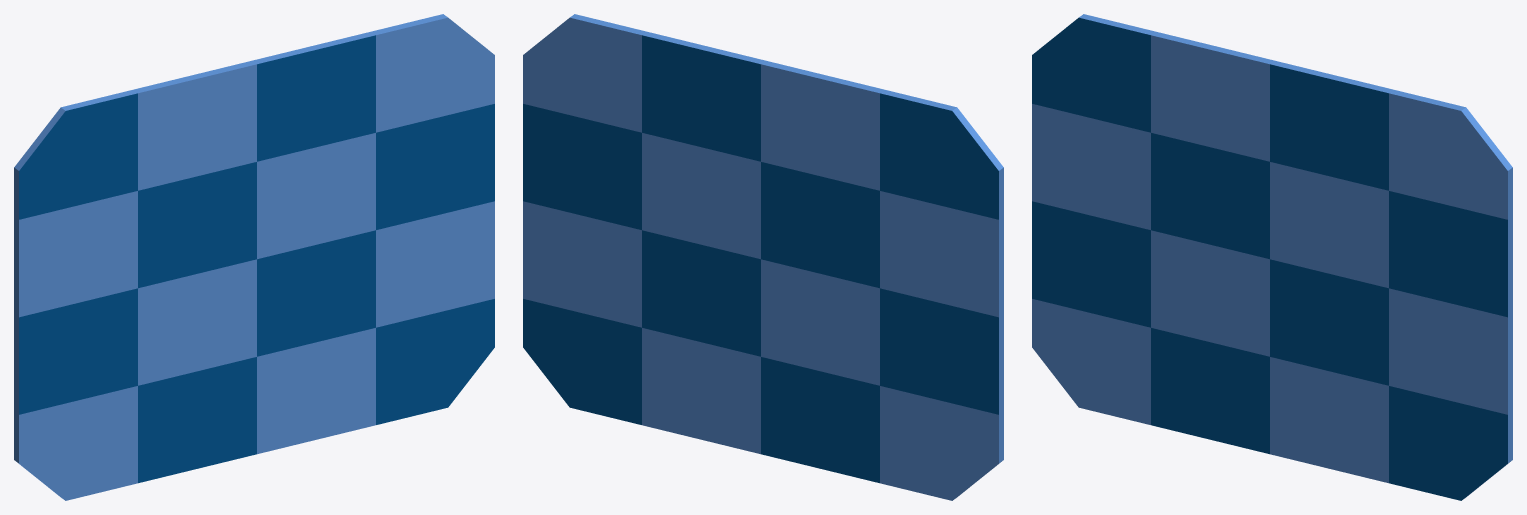
File: TowerSolarPanel.fbx
The picture shows the model from 3 angles, left to right: view 1: azimuth 30°, elevation 25°; view 2: azimuth 150°, elevation 25°; view 3: azimuth 330°, elevation 25°; orthographic projection.
Parts seen in each view (by area): view 1: polySurface6; view 2: polySurface6; view 3: polySurface6.
Part boxes in pixels (box(x1,y1,x2,y2)): polySurface6: box(14, 14, 494, 500); polySurface6: box(523, 14, 1003, 500); polySurface6: box(1032, 14, 1512, 500).
Size of the model in its own units: 3.91 by 3.06 by 0.0704.
